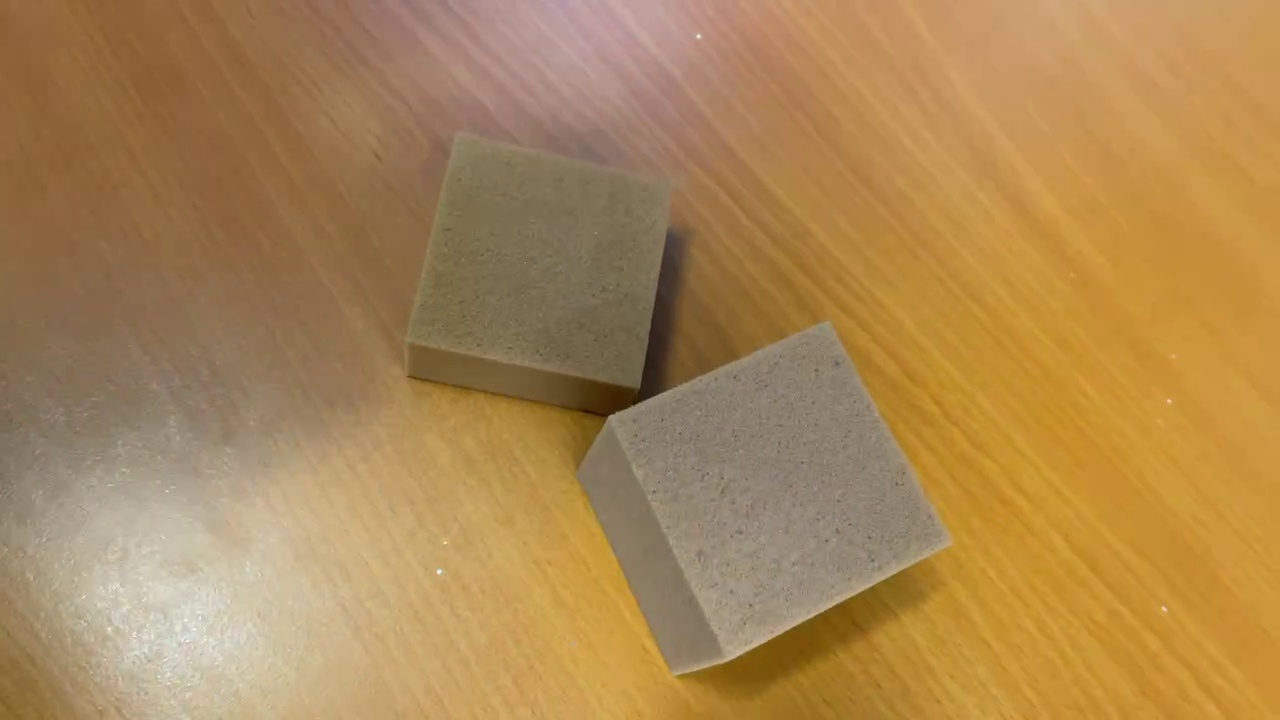Cube: (568, 317, 960, 682)
Cube_short: (400, 131, 677, 421)
